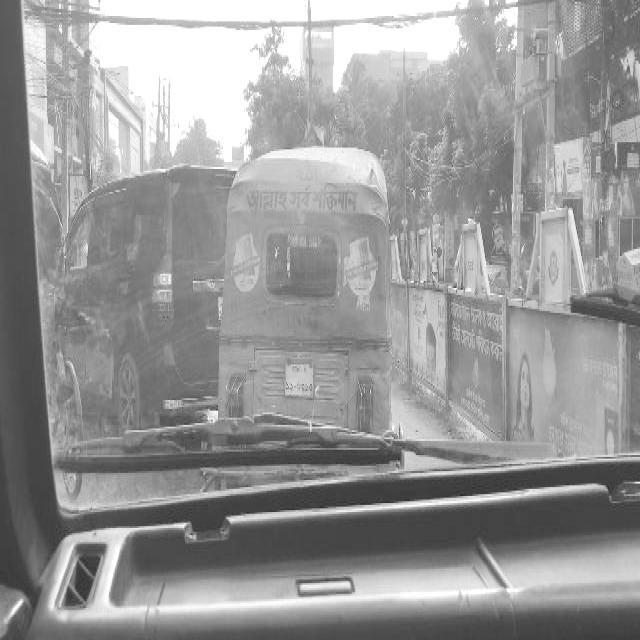motorcycle: (211, 151, 409, 477), (28, 155, 88, 501), (518, 238, 541, 296)
truck: (67, 160, 221, 457)
